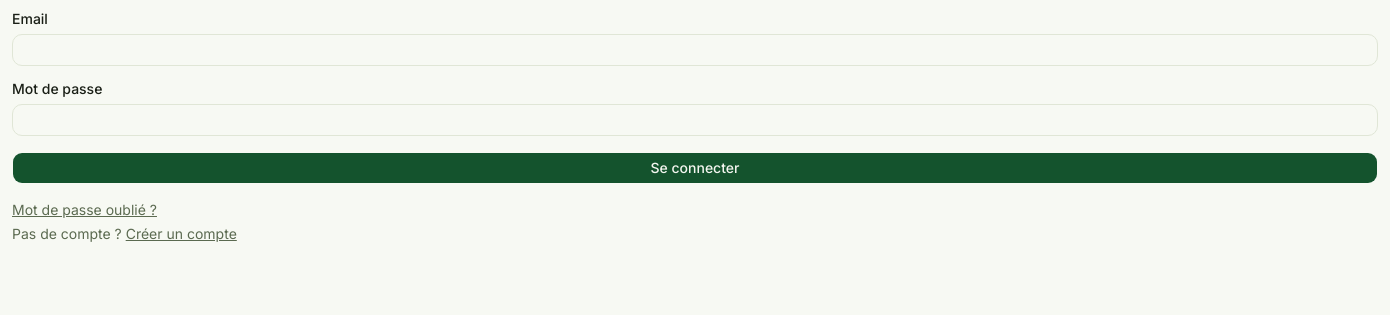
Test: LoginForm › affiche les erreurs de validation et n'appelle pas l'action
This screenshot has width=1390, height=315.
Click the button "Se connecter".
click(695, 168)  # box x1=12 y1=152 x2=1378 y2=184
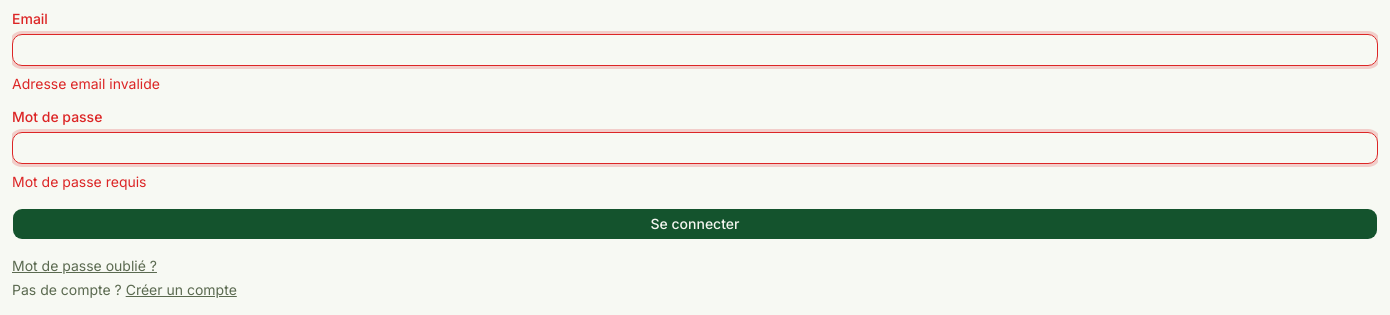
Now the text "Adresse email invalide" is shown, box x1=12 y1=75 x2=160 y2=92
Now the text "Mot de passe requis" is shown, box x1=12 y1=173 x2=146 y2=190
